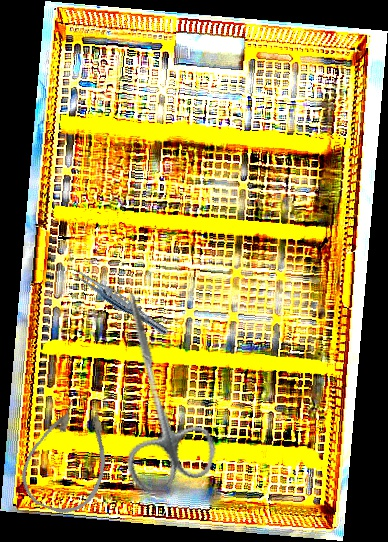Cannula: (13, 392, 125, 523)
Iris Scissors: (84, 282, 223, 495)
Tissue Forceps: (66, 264, 173, 339)
